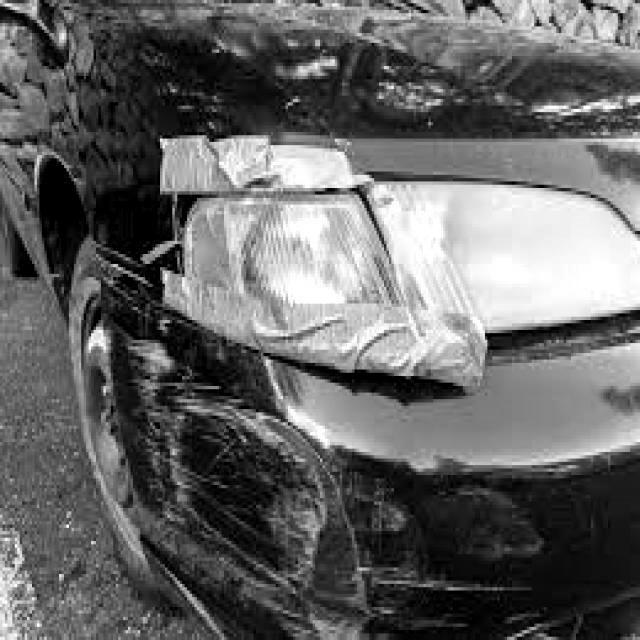Headlight-damage: (151, 132, 638, 376)
front-bumper-dent: (51, 271, 558, 637)
